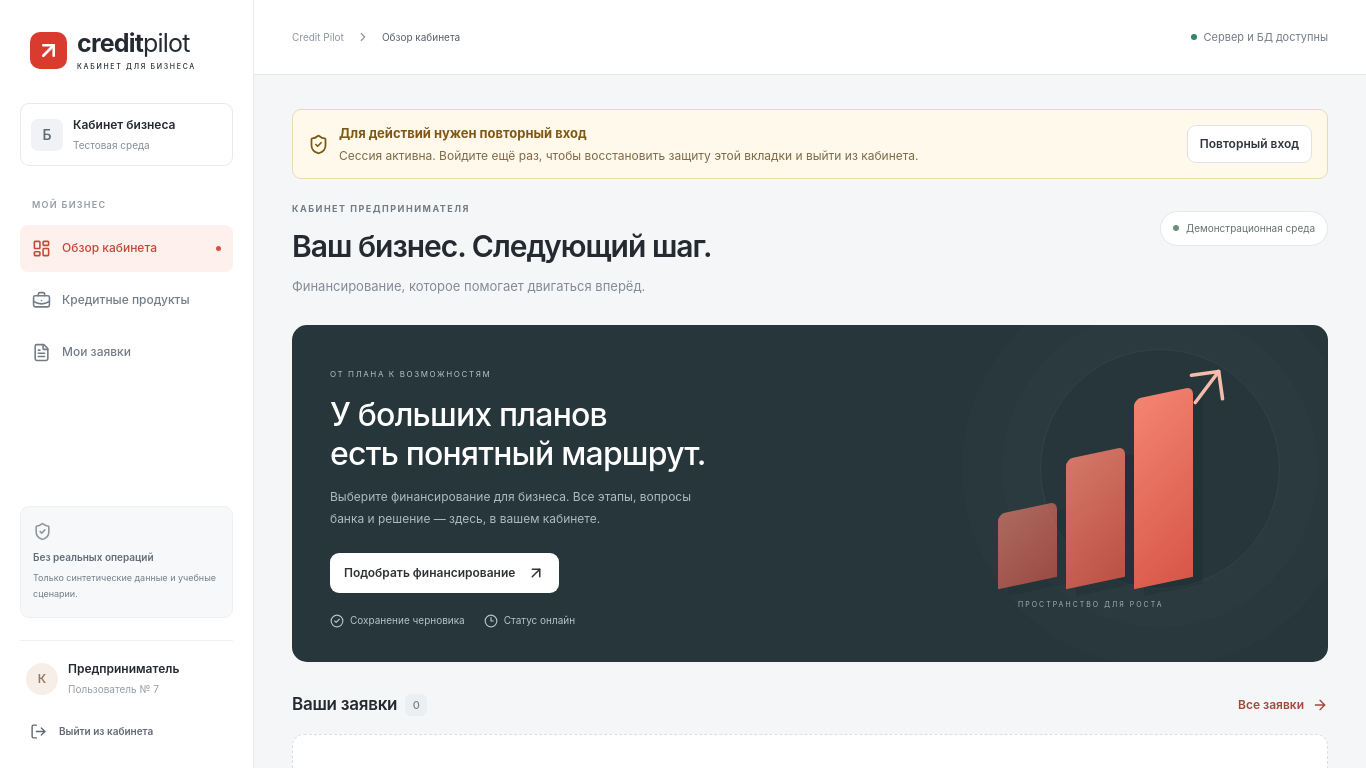
Test: серверная сессия и навигация › при пустом CSRF предлагает повторный вход и не отправляет logout
Expected: the text "Для действий нужен повторный вход" is shown, [339, 125, 587, 141]
Click the button "Выйти из кабинета". click: (126, 731)
box: [20, 711, 233, 751]
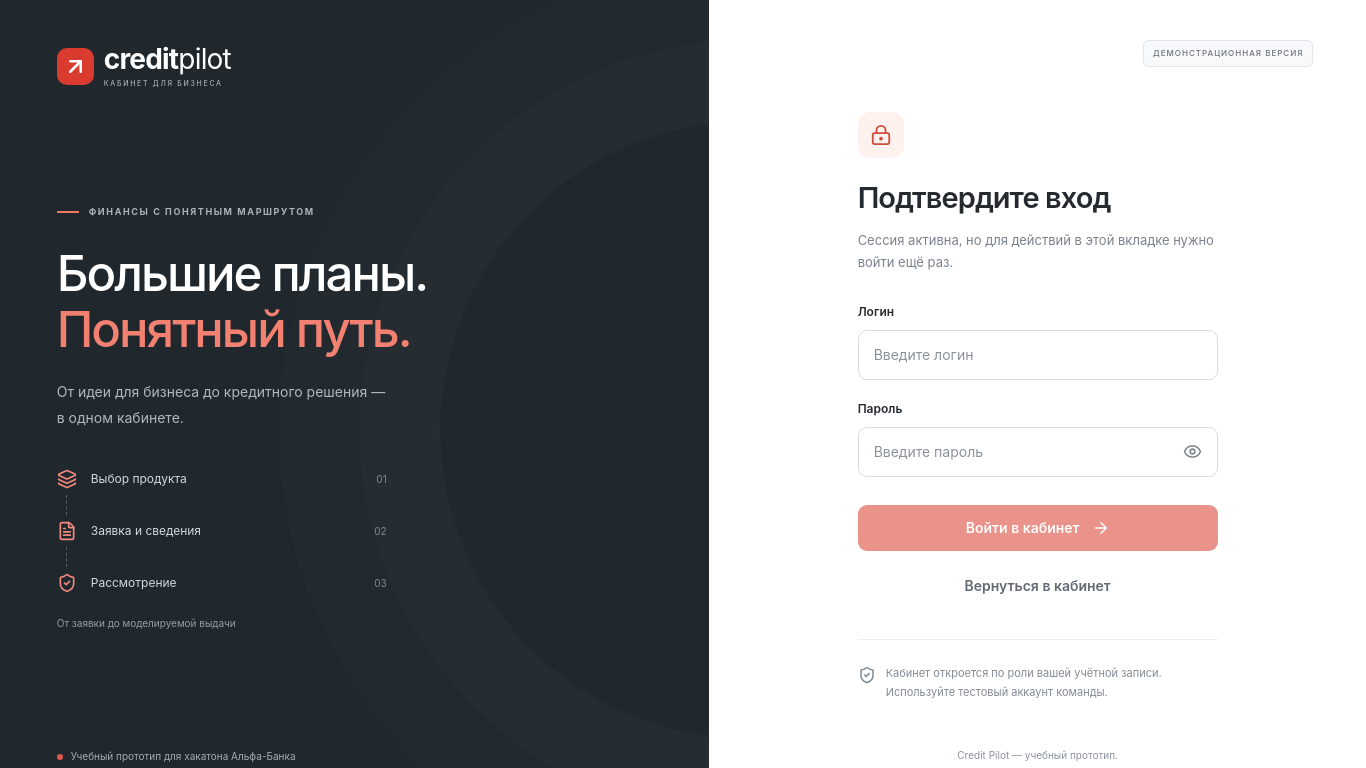
Expected: the heading "Подтвердите вход" is shown, [858, 180, 1110, 215]
Type "client-a" into the field labelled "Логин". click: (1038, 355)
box: [858, 330, 1218, 380]
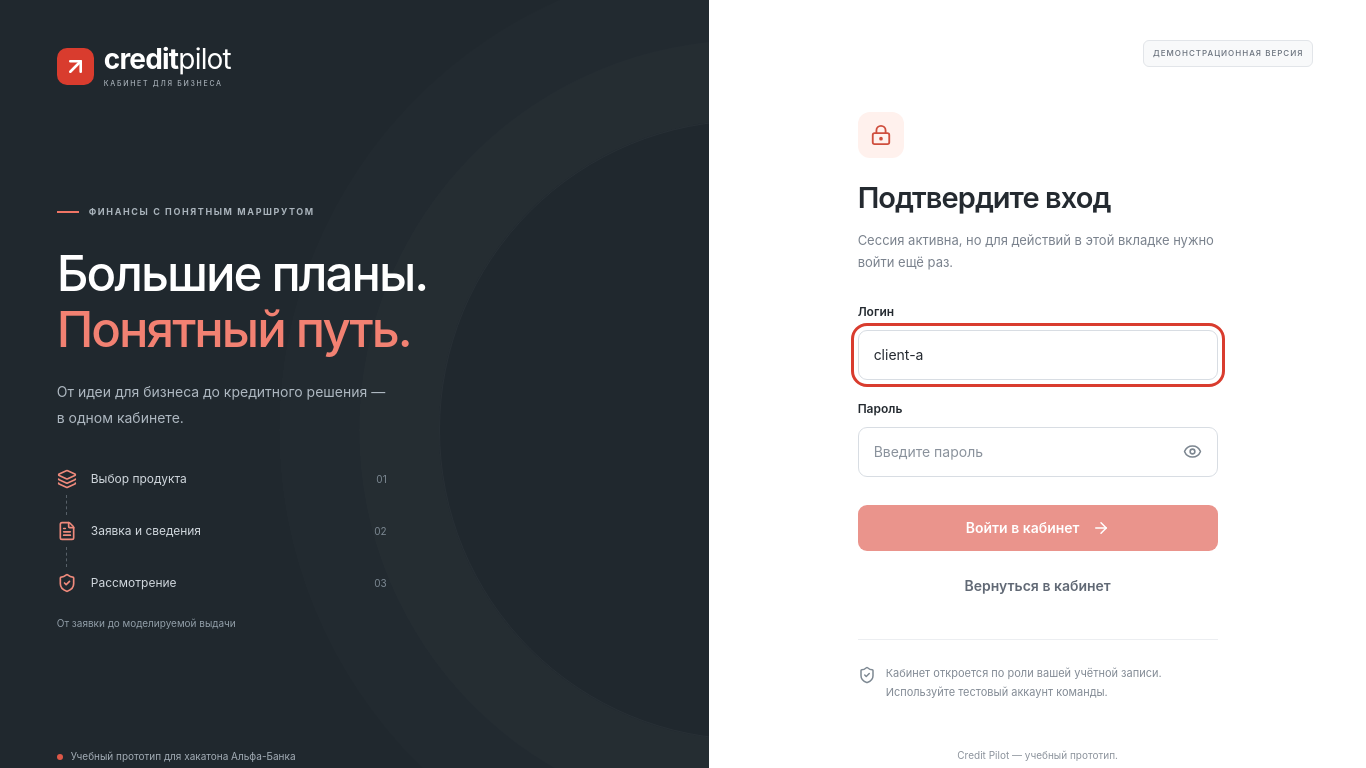
Type "test-input" into the password field labelled "Пароль". click: (1038, 452)
box: [858, 427, 1218, 477]
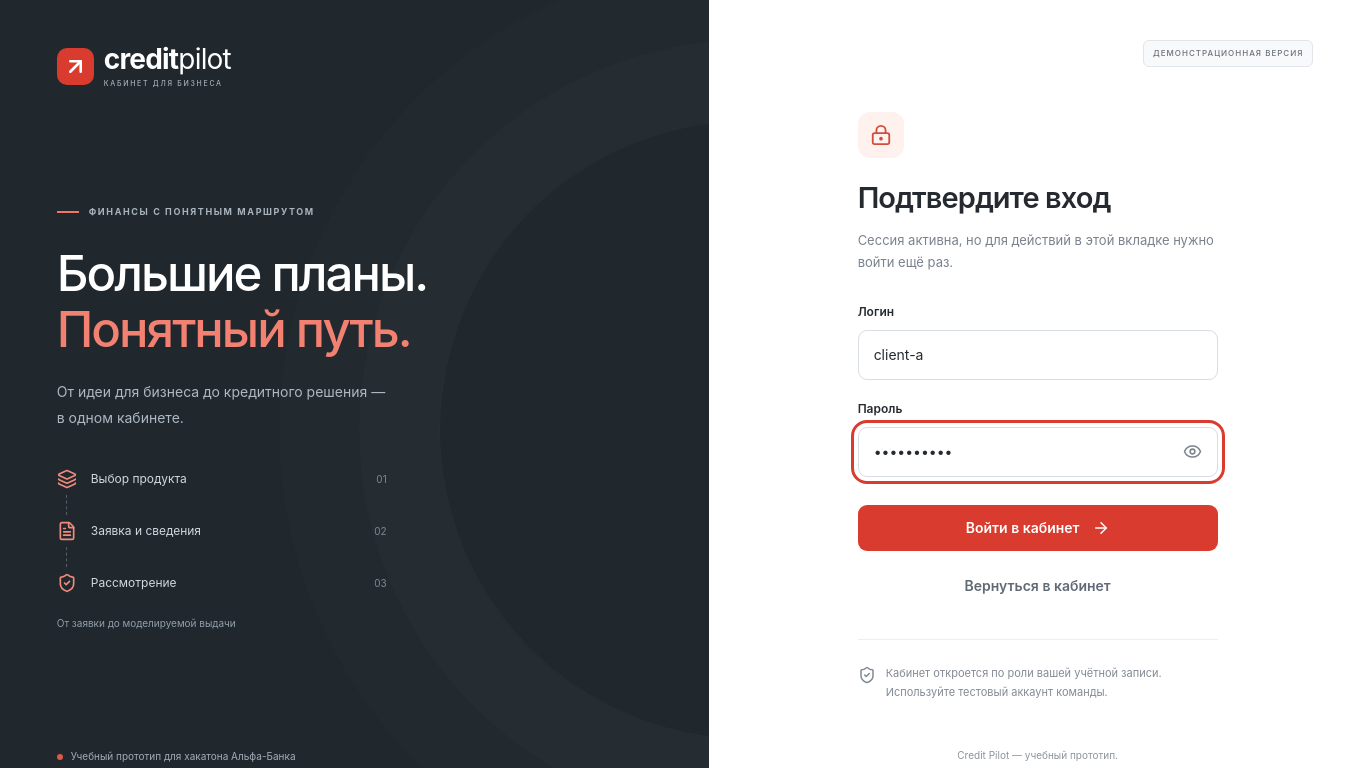
Click the button "Войти в кабинет". click: (1038, 528)
box: [858, 505, 1218, 551]
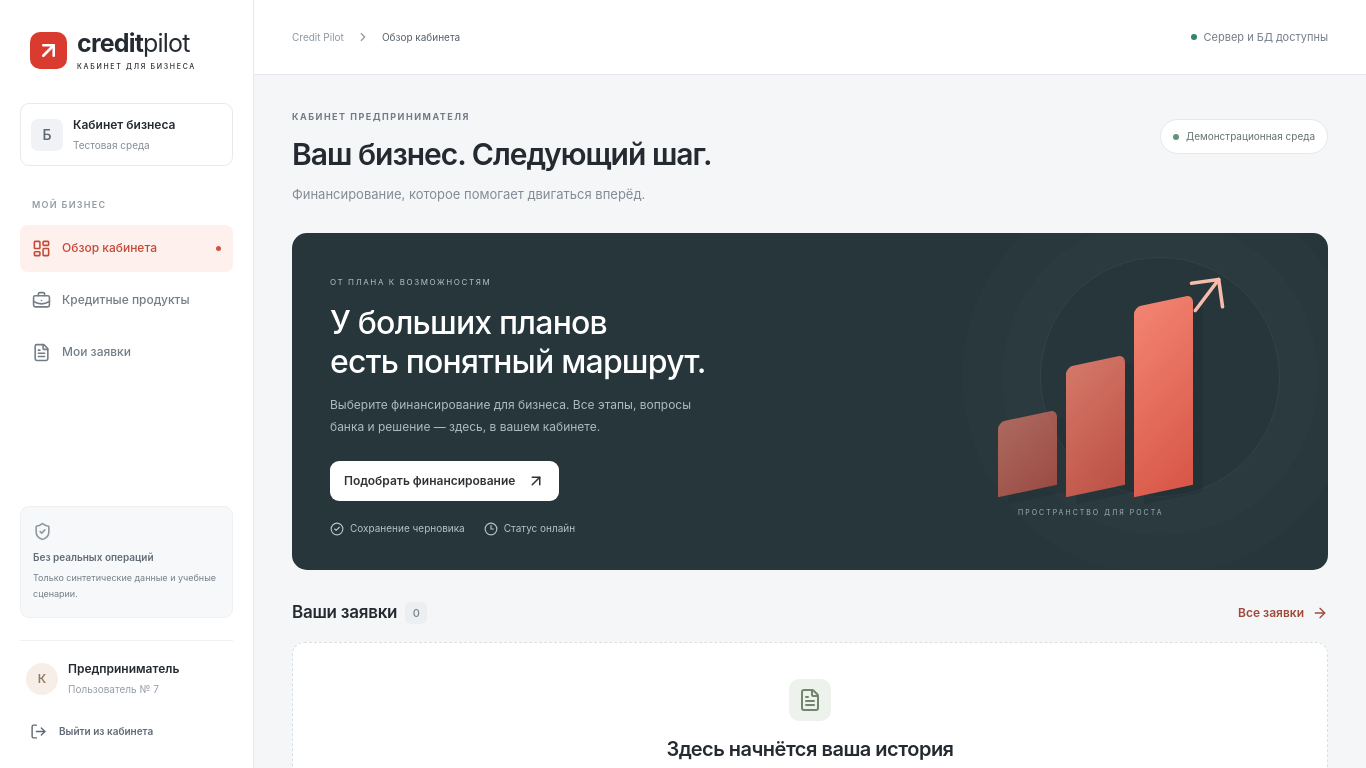
Expected: the text "Для действий нужен повторный вход" is not shown
Expected: the navigation bar is shown, [20, 224, 233, 376]
